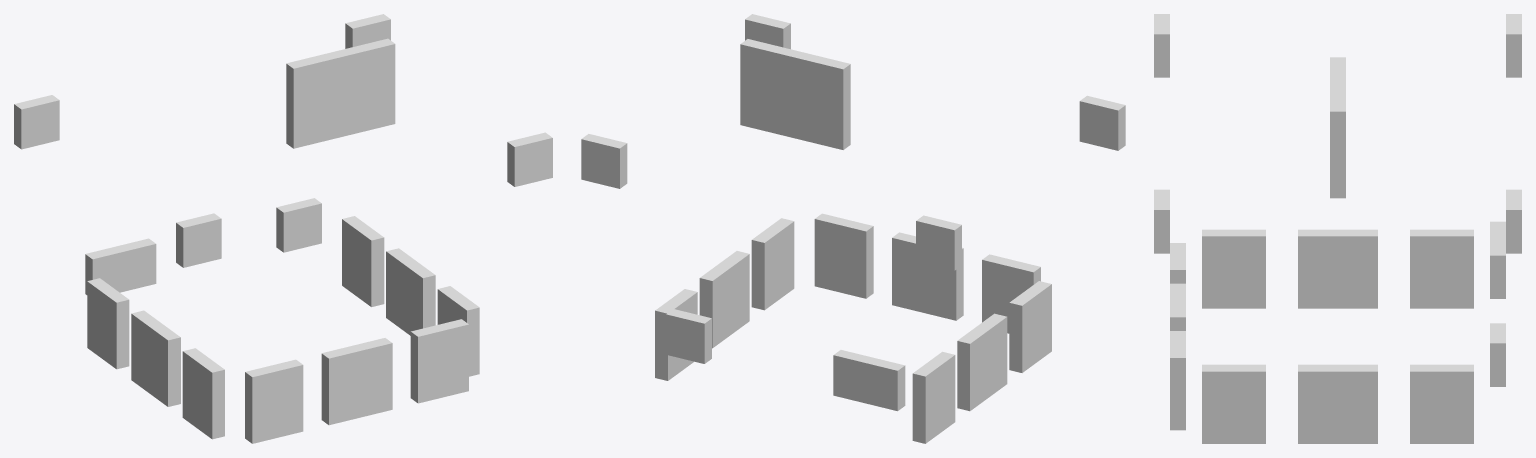
Rendered from FlagTowerColored.obj.
3 renders of one model, left to right at view 1: azimuth 30°, elevation 25°; view 2: azimuth 150°, elevation 25°; view 3: azimuth 270°, elevation 25°, orthographic. The views are drawn at different scales.
Size of the model in its own units: 2.9 by 2.2 by 2.3.
Materials: 1 (1 with a texture image).
